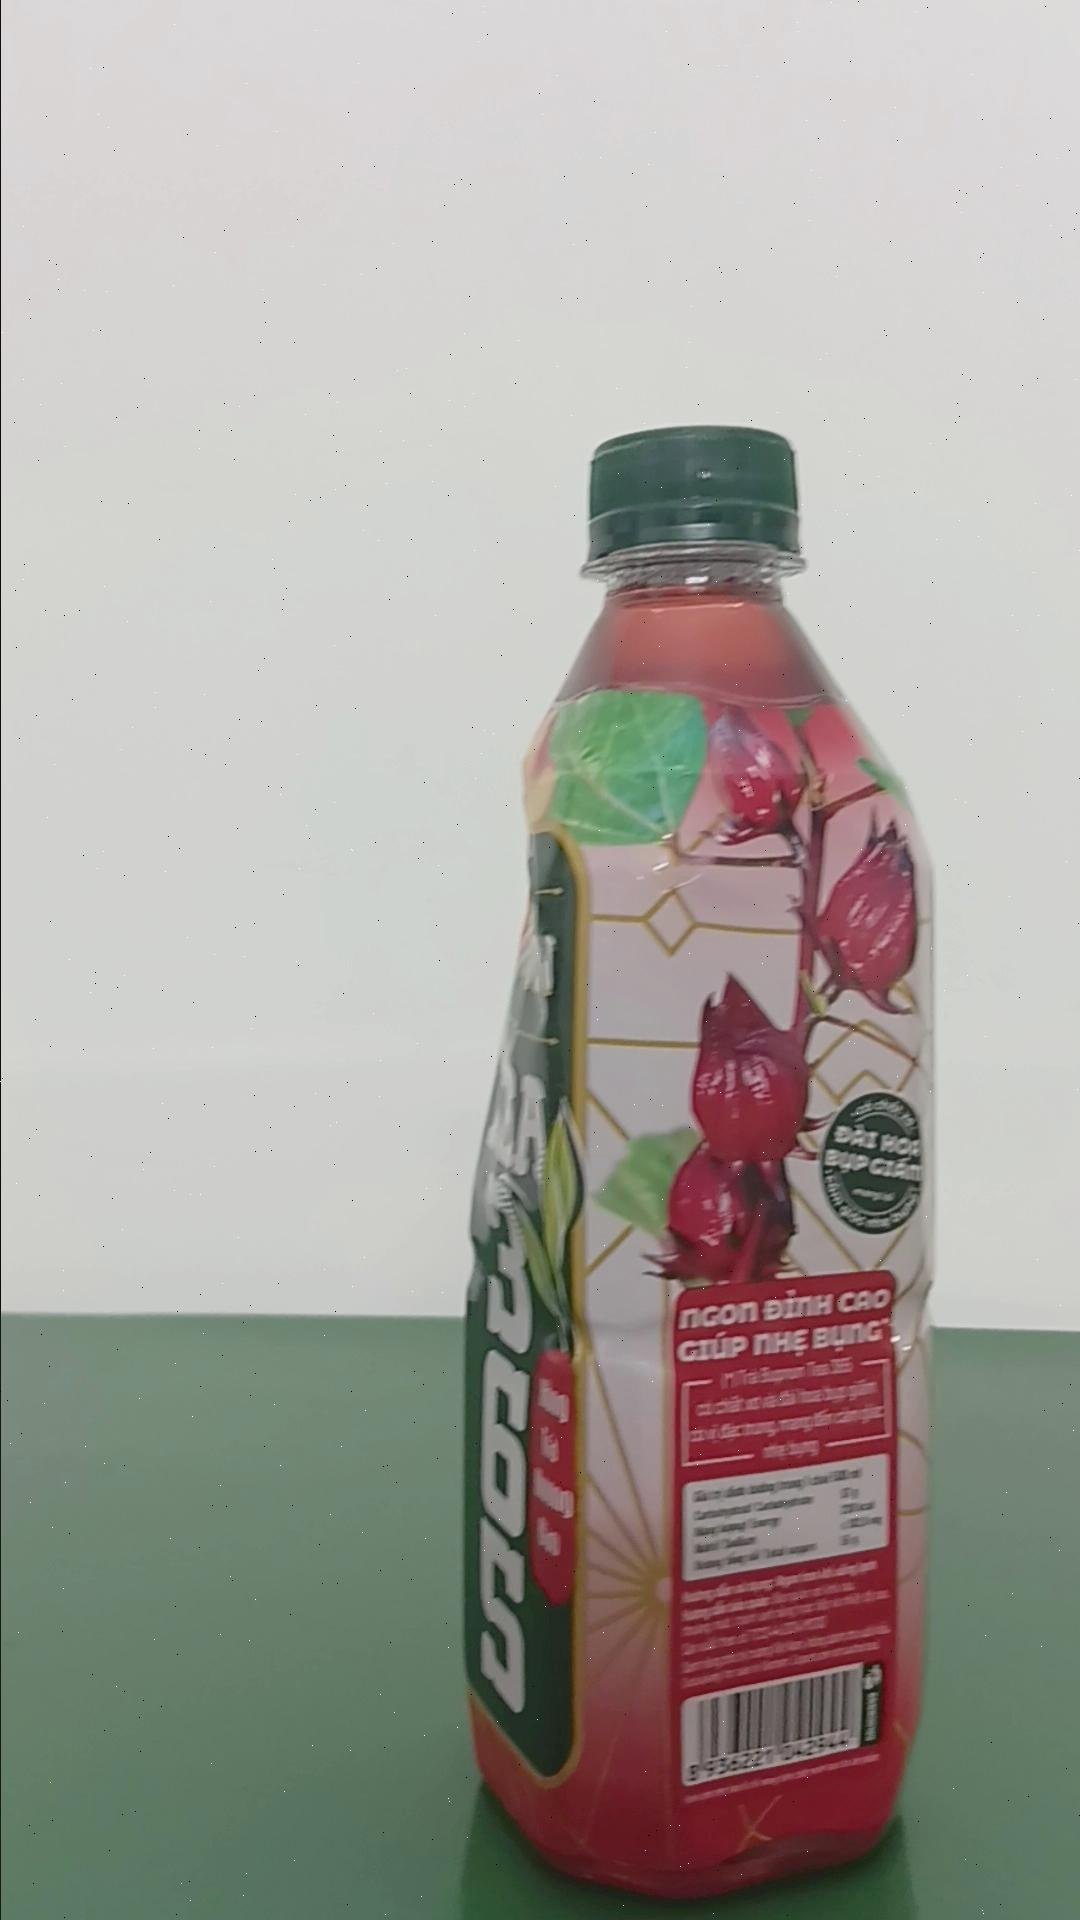loi meo sp: (458, 421, 940, 1899)
